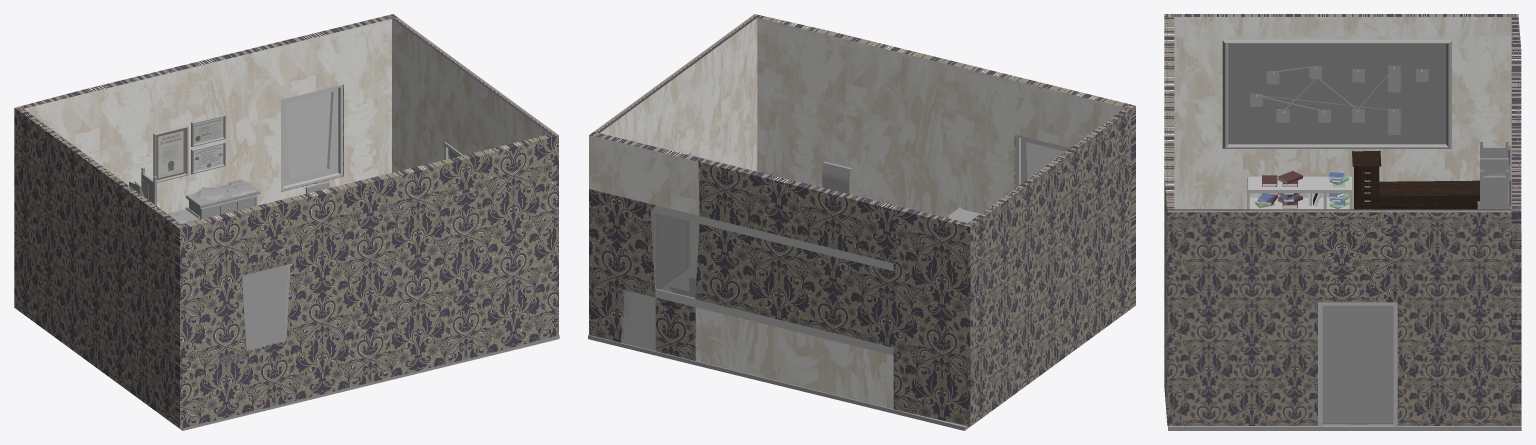
The model's file is Dective room.fbx.
3 views of the same model, side by side, from view 1: azimuth 30°, elevation 25°; view 2: azimuth 150°, elevation 25°; view 3: azimuth 270°, elevation 25° (orthographic). The views are drawn at different scales.
Parts seen in each view (by area): view 1: pCube171, pCube1, pCube2, pCube19, pasted__pPlane2, pCube3, pCube21, pasted__pCube20, pPlane3, pasted__pPlane1; view 2: pCube1, pCube171, pCube2, pCube196, pCube188; view 3: pCube171, pCube1, pasted__pCube18, pCube196, pCube13, pCube14, pCube2, pCube197, pCube5, pCube11, pCube162, pCube116 (+1 smaller).
Boxes of the visible parts, x1,y1,x2,y2 form: pCube171: [175, 15, 558, 428]; pCube1: [14, 14, 397, 424]; pCube2: [180, 265, 559, 430]; pCube19: [153, 125, 188, 182]; pasted__pPlane2: [156, 128, 185, 180]; pCube3: [186, 181, 260, 219]; pCube21: [191, 114, 225, 147]; pasted__pCube20: [191, 141, 225, 174]; pPlane3: [194, 144, 223, 171]; pasted__pPlane1: [194, 117, 223, 144]; pCube1: [589, 105, 1134, 426]; pCube171: [594, 14, 1135, 308]; pCube2: [588, 264, 969, 430]; pCube196: [656, 214, 685, 288]; pCube188: [822, 161, 851, 194]; pCube171: [1164, 14, 1519, 425]; pCube1: [1166, 14, 1521, 425]; pasted__pCube18: [1222, 39, 1451, 148]; pCube196: [1322, 305, 1393, 423]; pCube13: [1352, 150, 1509, 209]; pCube14: [1247, 176, 1352, 209]; pCube2: [1168, 231, 1521, 430]; pCube197: [1318, 302, 1397, 426]; pCube5: [1480, 170, 1508, 209]; pCube11: [1480, 158, 1508, 208]; pCube162: [1480, 141, 1508, 174]; pCube116: [1388, 65, 1400, 92].
Bounding box in the file's own units: 141 × 72.35 × 107.
